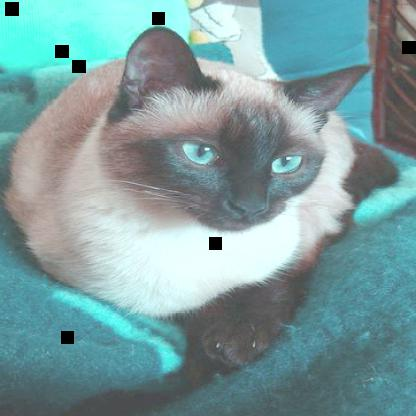cat: (7, 26, 403, 367)
